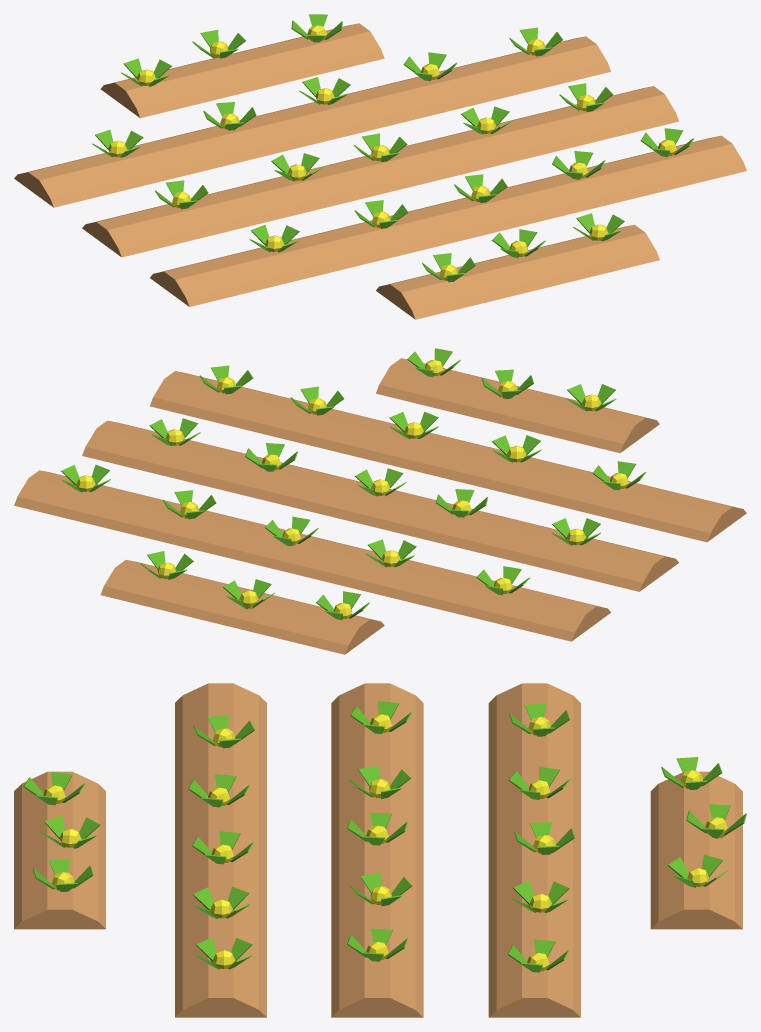
The model's file is Crops.fbx.
The picture shows the model from 3 angles, top to bottom: view 1: azimuth 30°, elevation 25°; view 2: azimuth 150°, elevation 25°; view 3: azimuth 270°, elevation 25°; orthographic projection. The views are drawn at different scales.
Parts seen in each view (by area): view 1: Crops; view 2: Crops; view 3: Crops.
Part boxes in pixels (left/top/right/bottom): Crops: left=14, top=14, right=746, bottom=319; Crops: left=14, top=348, right=746, bottom=654; Crops: left=14, top=683, right=746, bottom=1017.
Size of the model in its own units: 0.9035 by 0.0472 by 0.8895.
